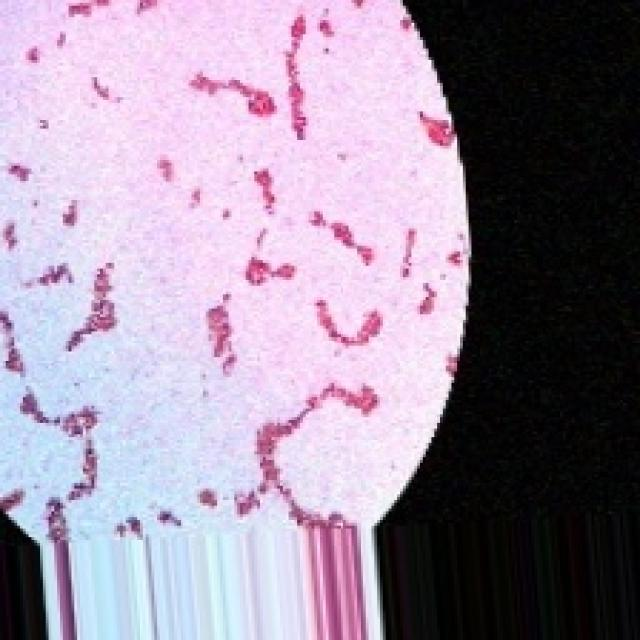Rod_bacteria: (0, 0, 474, 637)
